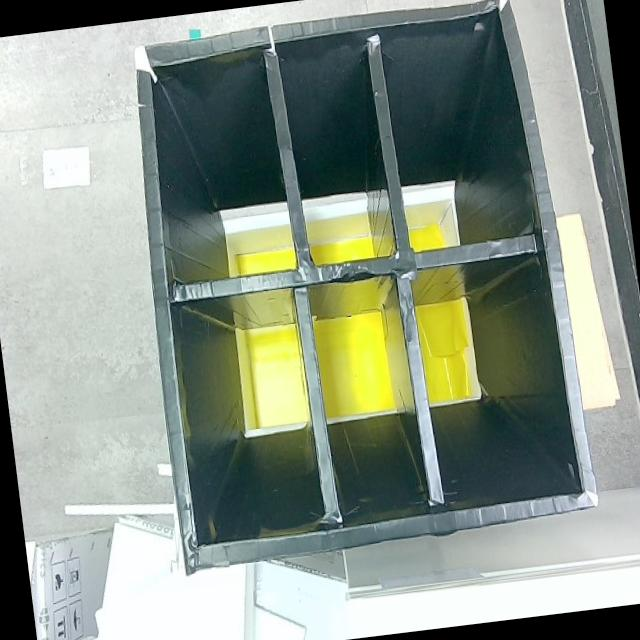box: (117, 0, 600, 573)
